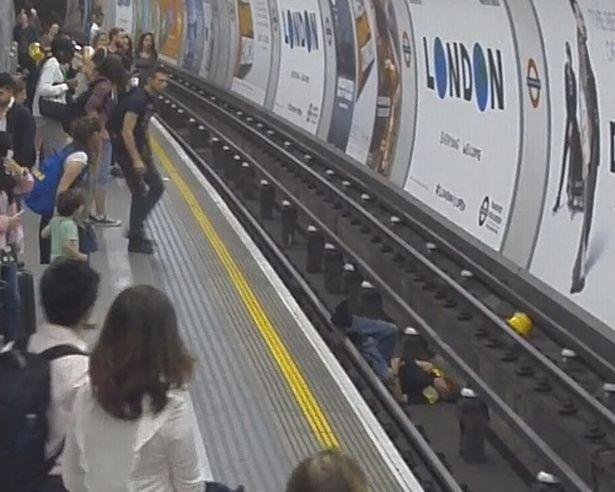person: (84, 281, 200, 492), (13, 258, 98, 492), (329, 298, 465, 409), (117, 66, 176, 258), (36, 112, 109, 192), (37, 35, 82, 144), (49, 186, 96, 257), (130, 31, 165, 70)
